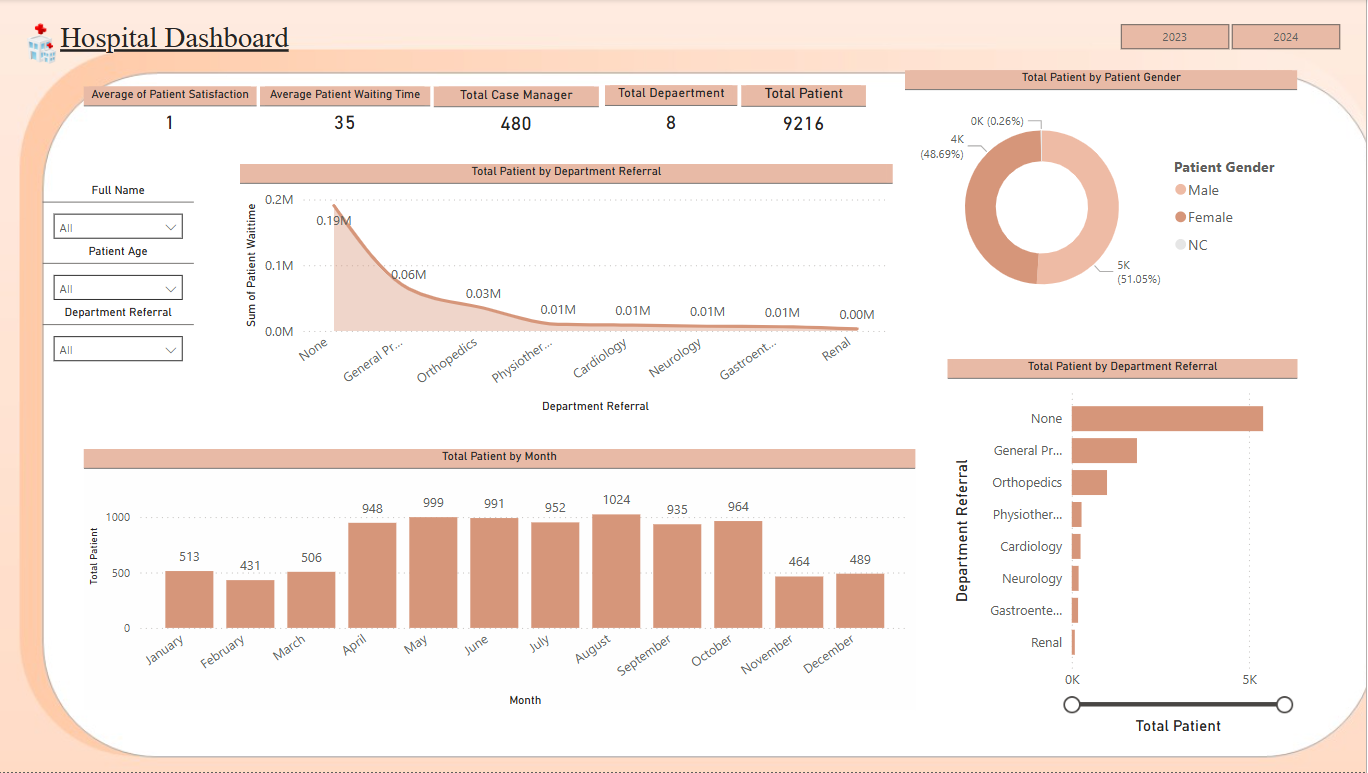

The dashboard page shown, as its layout file describes it:
{"tool":"powerbi","page":{"name":"Page 1","canvas":[1280,720],"ordinal":0},"visuals":[{"type":"textbox","box":[7,16.3,329.1,52.3],"z":0},{"type":"image","box":[24.4,16.3,47.7,50],"z":1000},{"type":"slicer","title":"Patient Age","fields":{"Values":["Hospital ER_Data.Patient Age"]},"box":[48.8,227.9,140.7,57],"z":2000},{"type":"slicer","title":"Department Referral","fields":{"Values":["Hospital ER_Data.Department Referral"]},"box":[48.8,284.9,140.7,61.6],"z":3000},{"type":"slicer","title":"Year","fields":{"Values":["Hospital ER_Data.Patient Admission Date.Variation.Date Hierarchy.Year"]},"box":[1025.6,16.3,254.7,34.9],"z":4000},{"type":"card","title":"Total Patient","fields":{"Values":["Hospital ER_Data.Full Name"]},"box":[699,80.2,116.3,48.8],"z":5000},{"type":"clusteredBarChart","title":"Total Patient by Department Referral","fields":{"Y":["Hospital ER_Data.Total Patient"],"Category":["Hospital ER_Data.Department Referral"]},"box":[890.7,334.9,325.6,352.3],"z":6000},{"type":"clusteredColumnChart","title":"Total Patient by Month","fields":{"Y":["Hospital ER_Data.Total Patient"],"Category":["Hospital ER_Data.Patient Admission Date.Variation.Date Hierarchy.Month"]},"box":[87.2,418.6,773.3,243],"z":7000},{"type":"donutChart","title":"Total Patient by Patient Gender","fields":{"Y":["Hospital ER_Data.Total Patient"],"Category":["Hospital ER_Data.Patient Gender"]},"box":[851.2,66.3,365.1,234.9],"z":8000},{"type":"card","title":"Average Patient Waiting Time","fields":{"Values":["Hospital ER_Data.Patient Waittime"]},"box":[251.3,81.4,158.1,47.7],"z":9000},{"type":"card","title":"Total Depaertment","fields":{"Values":["Hospital ER_Data.Department Referral"]},"box":[572.3,80.2,123.3,48.8],"z":10000},{"type":"card","title":"Average of Patient Satisfaction","fields":{"Values":["Hospital ER_Data.Patient Satisfaction Score"]},"box":[87.4,81.4,160.5,47.7],"z":11000},{"type":"slicer","title":"Full Name","fields":{"Values":["Hospital ER_Data.Full Name"]},"box":[48.8,170.9,140.7,57],"z":12000},{"type":"card","title":"Total Case Manager","fields":{"Values":["Hospital ER_Data.Patients CM"]},"box":[413,81.4,153.5,47.7],"z":13000},{"type":"areaChart","title":"Total Patient by Department Referral","fields":{"Category":["Hospital ER_Data.Department Referral"],"Y":["Hospital ER_Data.Patient Waittime"]},"box":[232.6,153.5,607,234.9],"z":14000}]}

Visuals, with their boxes in screenshot pixels (x1, y1, x2, y2), scaled from the page's 1280x720 canvas onto the 1368x773 screenshot:
textbox: l=7, t=17, r=359, b=74
image: l=26, t=17, r=77, b=71
"Patient Age" slicer: l=52, t=245, r=203, b=306
"Department Referral" slicer: l=52, t=306, r=203, b=372
"Year" slicer: l=1096, t=17, r=1367, b=55
"Total Patient" card: l=747, t=86, r=871, b=138
"Total Patient by Department Referral" clusteredBarChart: l=952, t=360, r=1300, b=738
"Total Patient by Month" clusteredColumnChart: l=93, t=449, r=920, b=710
"Total Patient by Patient Gender" donutChart: l=910, t=71, r=1300, b=323
"Average Patient Waiting Time" card: l=269, t=87, r=438, b=139
"Total Depaertment" card: l=612, t=86, r=743, b=138
"Average of Patient Satisfaction" card: l=93, t=87, r=265, b=139
"Full Name" slicer: l=52, t=183, r=203, b=245
"Total Case Manager" card: l=441, t=87, r=605, b=139
"Total Patient by Department Referral" areaChart: l=249, t=165, r=897, b=417
